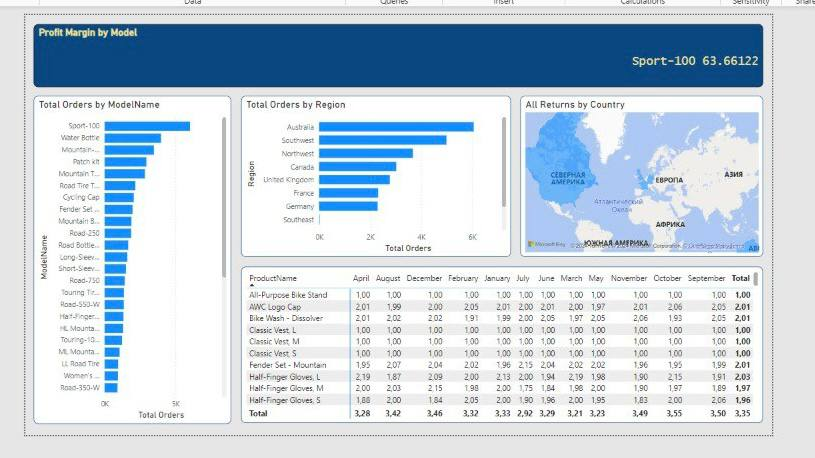

The page's visual inventory and layout, read from the dashboard file:
{"tool":"powerbi","page":{"name":"Product Details","canvas":[1280,720],"ordinal":2},"visuals":[{"type":"pivotTable","fields":{"Rows":["Product Lookup.ProductName"],"Columns":["Calendar.MonthName"],"Values":["Sales Data.Average Order Size"]},"box":[370,432,894,268],"z":0},{"type":"clusteredBarChart","fields":{"Category":["Territory Lookup.Region"],"Y":["Measure Table (2).Total Orders"]},"box":[370,138,462,276],"z":1000},{"type":"filledMap","fields":{"Category":["Territory Lookup.Country"]},"box":[848,138,416,276],"z":2000},{"type":"clusteredBarChart","fields":{"Category":["Product Lookup.ModelName"],"Y":["Measure Table (2).Total Orders"]},"box":[14,138,338,562],"z":4000},{"type":"ScrollingTextVisual1448795304508","title":"Profit Margin by Model","fields":{"Category":["Product Lookup.ModelName"],"Measure Absolute":["Sales Data.Gross Margin"]},"box":[14,16,1250,108],"z":4001}]}

Visuals, with their boxes on the page's 1280x720 design canvas (x1, y1, x2, y2). These are canvas units, not pixel positions in the 815x458 screenshot, which may show the page scaled, cropped or inside an application window:
pivotTable - Product Lookup.ProductName x Calendar.MonthName: pyautogui.locateOnScreen(370, 432, 1264, 700)
clusteredBarChart - Territory Lookup.Region x Measure Table (2).Total Orders: pyautogui.locateOnScreen(370, 138, 832, 414)
filledMap - Territory Lookup.Country: pyautogui.locateOnScreen(848, 138, 1264, 414)
clusteredBarChart - Product Lookup.ModelName x Measure Table (2).Total Orders: pyautogui.locateOnScreen(14, 138, 352, 700)
"Profit Margin by Model" ScrollingTextVisual1448795304508: pyautogui.locateOnScreen(14, 16, 1264, 124)
